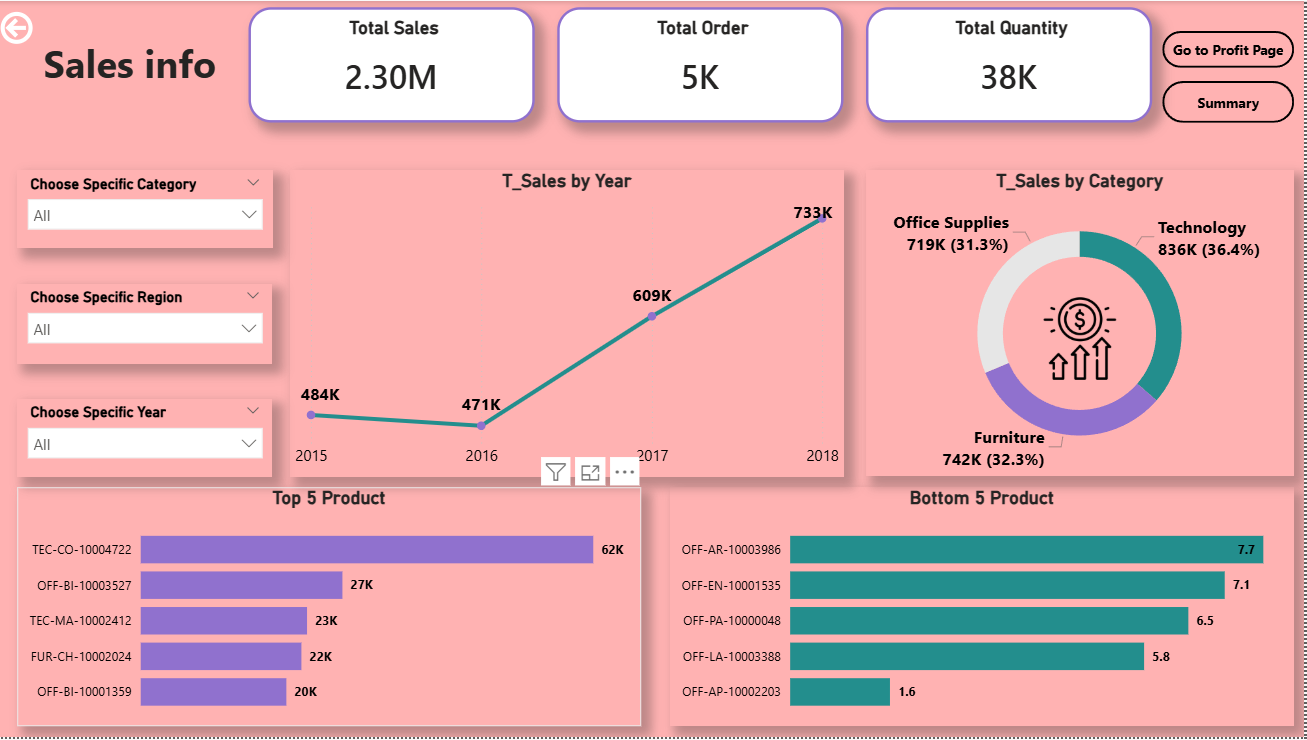

The dashboard page shown, as its layout file describes it:
{"tool":"powerbi","page":{"name":"Sales info","canvas":[1280,720],"ordinal":1},"visuals":[{"type":"actionButton","box":[0,6.1,41.6,40.4],"z":0},{"type":"textbox","box":[41.2,30.2,194.9,100.2],"z":1000},{"type":"cardVisual","title":"Total Sales","fields":{"Data":["Measure.T_Sales"]},"box":[247,6.1,280,112.5],"z":2000},{"type":"cardVisual","title":"Total Order","fields":{"Data":["Measure.T_Order"]},"box":[549.1,6.1,280,112.5],"z":3000},{"type":"cardVisual","title":"Total Quantity","fields":{"Data":["Measure.T_Quantity"]},"box":[851.1,6.1,280,112.5],"z":4000},{"type":"slicer","fields":{"Values":["Product_Dim.Category"]},"box":[20.6,164.7,250,76.8],"z":5000},{"type":"slicer","fields":{"Values":["Customer_Dim.Region"]},"box":[20.6,275.8,249.7,78.2],"z":6000},{"type":"slicer","fields":{"Values":["OrderDate_Dim.Order Date.Variation.Date Hierarchy.Year"]},"box":[20.6,388.3,249.7,76.8],"z":7000},{"type":"lineChart","fields":{"Y":["Measure.T_Sales"],"Category":["OrderDate_Dim.Order Date.Variation.Date Hierarchy.Year","OrderDate_Dim.Order Date.Variation.Date Hierarchy.Quarter","OrderDate_Dim.Order Date.Variation.Date Hierarchy.Month"]},"box":[286.8,164.7,542,300.5],"z":8000},{"type":"donutChart","fields":{"Y":["Measure.T_Sales"],"Category":["Product_Dim.Category"]},"box":[851.2,165,418.1,299.8],"z":9000},{"type":"image","box":[1002.5,290.2,115.5,81.1],"z":10000},{"type":"clusteredBarChart","title":"Top 5 Product ","fields":{"Category":["Product_Dim.Product ID"],"Y":["Measure.T_Sales"]},"box":[20.6,475.8,610,233.8],"z":11000},{"type":"clusteredBarChart","title":"Bottom 5 Product ","fields":{"Y":["Measure.T_Sales"],"Category":["Product_Dim.Product ID"]},"box":[658.7,475.8,610.6,233.8],"z":12000},{"type":"actionButton","box":[1140.7,29.8,129.1,36],"z":13000},{"type":"actionButton","box":[1140.7,78.2,129.1,41],"z":14000}]}

Visuals, with their boxes in screenshot pixels (x1, y1, x2, y2), scaled from the page's 1280x720 canvas onto the 1307x740 screenshot:
actionButton: BBox(0, 6, 42, 48)
textbox: BBox(42, 31, 241, 134)
"Total Sales" cardVisual: BBox(252, 6, 538, 122)
"Total Order" cardVisual: BBox(561, 6, 847, 122)
"Total Quantity" cardVisual: BBox(869, 6, 1155, 122)
slicer - Product_Dim.Category: BBox(21, 169, 276, 248)
slicer - Customer_Dim.Region: BBox(21, 283, 276, 364)
slicer - OrderDate_Dim.Order Date.Variation.Date Hierarchy.Year: BBox(21, 399, 276, 478)
lineChart - Measure.T_Sales x OrderDate_Dim.Order Date.Variation.Date Hierarchy.Year: BBox(293, 169, 846, 478)
donutChart - Measure.T_Sales x Product_Dim.Category: BBox(869, 170, 1296, 478)
image: BBox(1024, 298, 1142, 382)
"Top 5 Product " clusteredBarChart: BBox(21, 489, 644, 729)
"Bottom 5 Product " clusteredBarChart: BBox(673, 489, 1296, 729)
actionButton: BBox(1165, 31, 1297, 68)
actionButton: BBox(1165, 80, 1297, 123)
